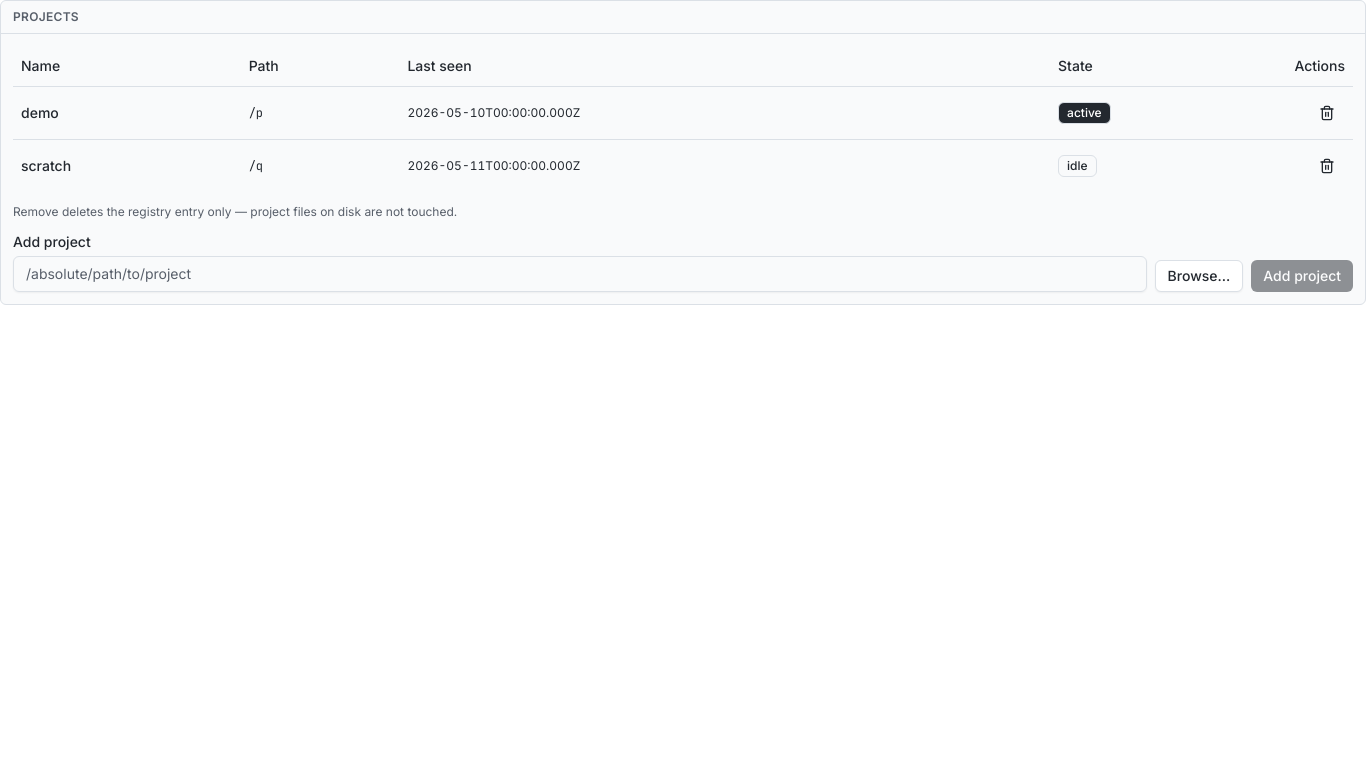
Test: ProjectRegistryEditor › removes a project after confirming the AlertDialog and reloads the table
This screenshot has width=1366, height=768.
Check: the text "scratch" is shown, box x1=13 y1=139 x2=241 y2=192
Click the button named "Remove project scratch". click: (1327, 166)
box: x1=1309 y1=148 x2=1345 y2=184
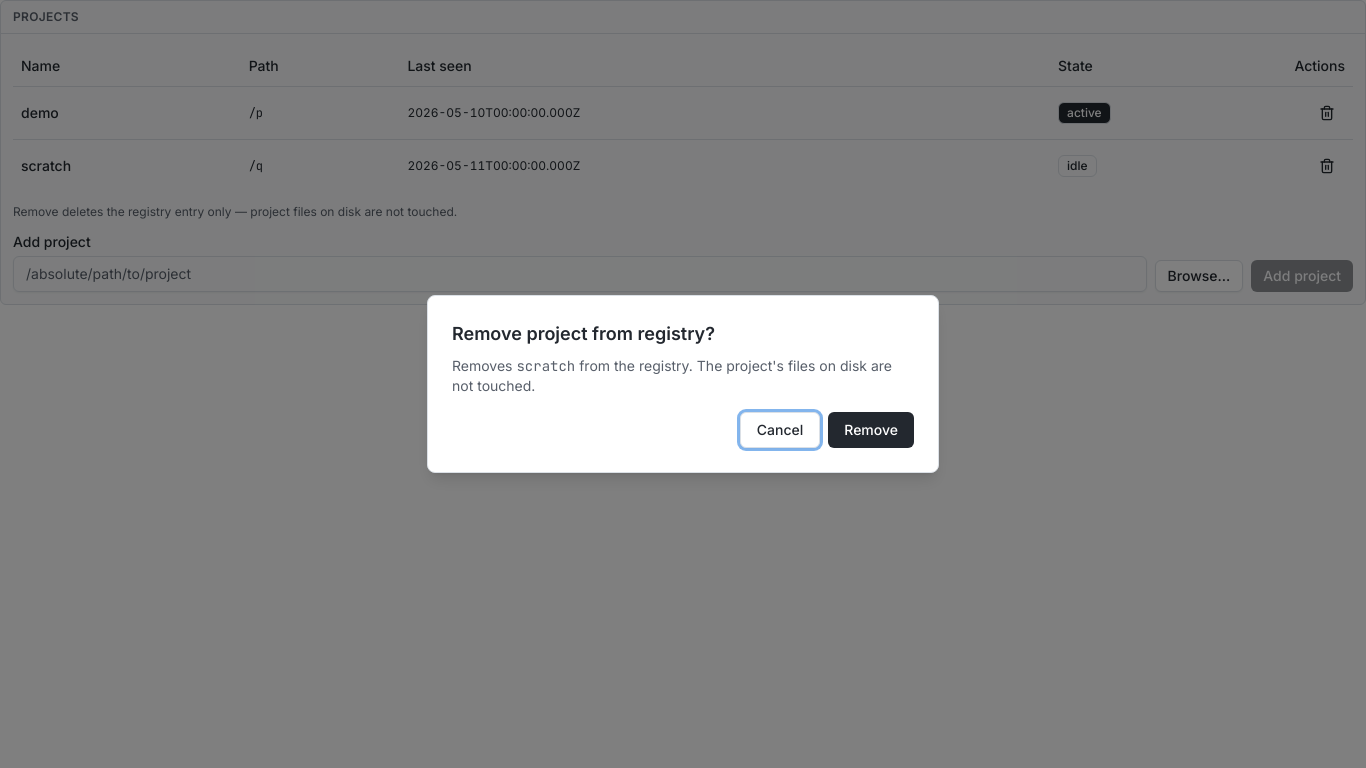
Check: the heading "Remove project from registry?" is shown, box x1=452 y1=323 x2=715 y2=344
Click the button "Remove". click: (871, 430)
box: x1=828 y1=412 x2=914 y2=448
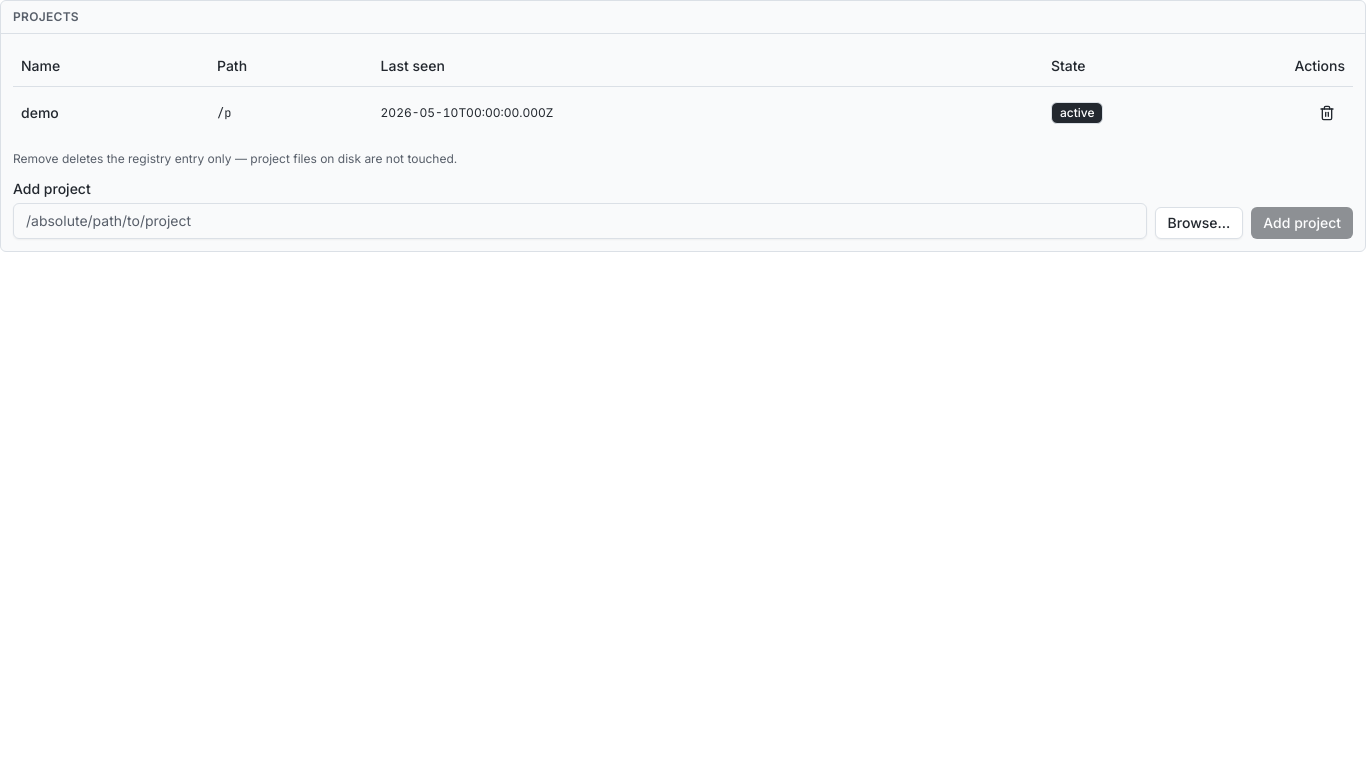
Check: the text "demo" is shown, box x1=13 y1=86 x2=209 y2=138
Check: the text "scratch" is gone
